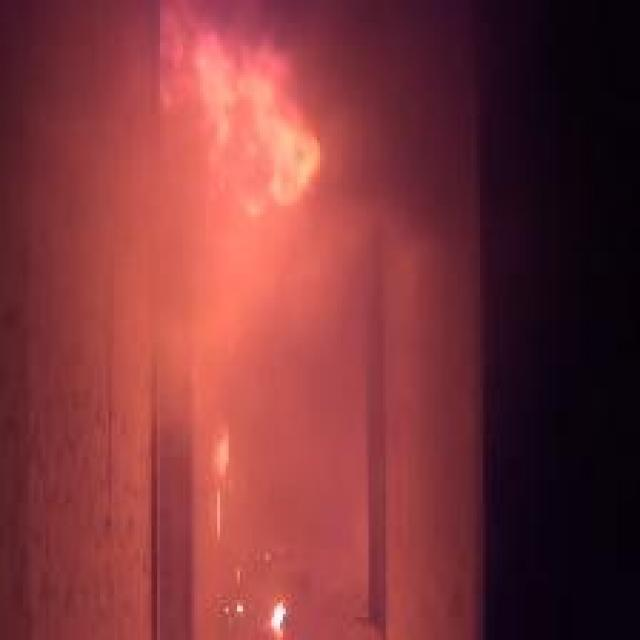Fire: (157, 0, 326, 208), (266, 600, 286, 640)
